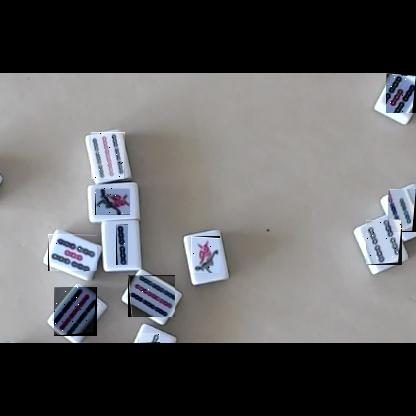1s: (191, 236, 220, 273), (95, 188, 130, 215)
2s: (116, 224, 128, 265), (138, 333, 160, 343)
4s: (366, 220, 402, 265)
5s: (48, 234, 97, 271), (386, 73, 416, 113)
7s: (388, 189, 416, 232)
9s: (54, 287, 97, 336), (128, 275, 175, 317), (91, 132, 125, 179)
